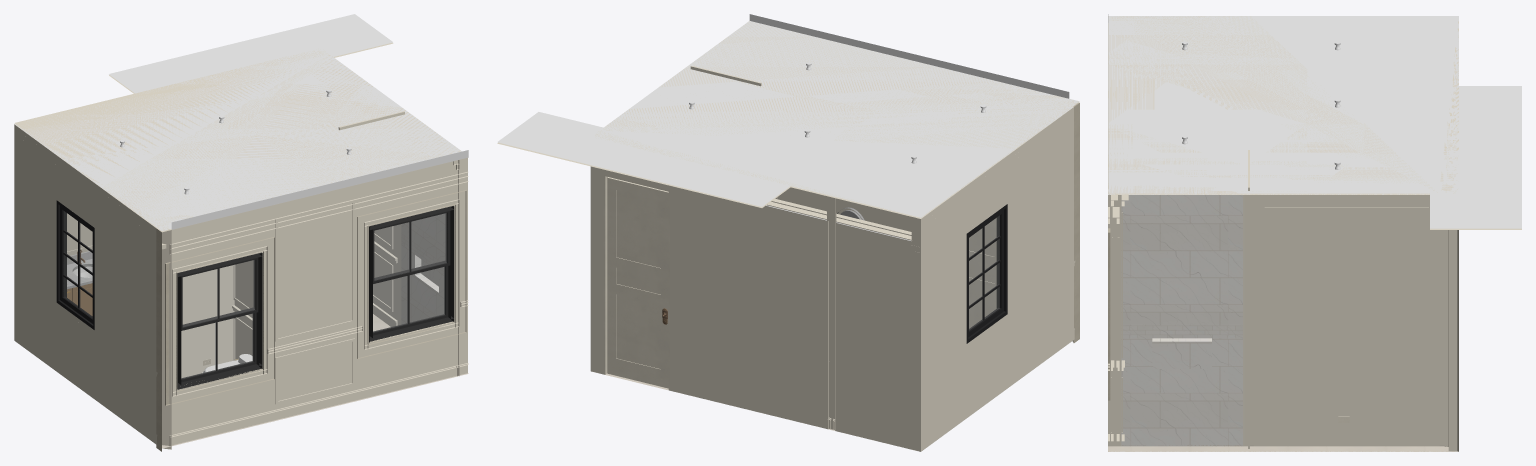
The model's file is primary-bath-cc031e4b3f61.glb.
The picture shows the model from 3 angles, left to right: view 1: azimuth 30°, elevation 25°; view 2: azimuth 150°, elevation 25°; view 3: azimuth 270°, elevation 25°; orthographic projection. The views are drawn at different scales.
Parts seen in each view (by area): view 1: primary-bath-9d91b47435c6fb33, primary-bath-b0ade14315e4f1c3, primary-bath-c51ecd664a3b22a3, primary-bath-e8793759323e04f0, primary-bath-60f0db96f832035a, primary-bath-b5cb73c07919def8, primary-bath-look-9d91b47435c6fb33, primary-bath-10eba734bfa580f9, primary-bath-20932135983111ad, primary-bath-ef64d5096d209f6d, primary-bath-b5339e4b2b15762b, primary-bath-62353aa10fc57f23 (+12 smaller); view 2: primary-bath-9ecc0d558be1c706, primary-bath-9d91b47435c6fb33, primary-bath-c51ecd664a3b22a3, primary-bath-e8793759323e04f0, primary-bath-18f70a4a9eda5dac, primary-bath-look-9d91b47435c6fb33, primary-bath-20932135983111ad, primary-bath-25ea03c5717987c5, primary-bath-e48b5483df8cacdb, primary-bath-b88ac105ef7c3bdb, primary-bath-62353aa10fc57f23, primary-bath-1a6c50e4c3accb7b (+2 smaller); view 3: primary-bath-9d91b47435c6fb33, primary-bath-fc6585fecfaf7ec3, primary-bath-e8793759323e04f0, primary-bath-3d8660a29b1e398e, primary-bath-2bc0761cc32b9613, primary-bath-look-9d91b47435c6fb33, primary-bath-c791a0f218fead78, primary-bath-9ecc0d558be1c706, primary-bath-343da8f45fc39332, primary-bath-b3921aced1f99593, primary-bath-b3dc771ed6f89851, primary-bath-38b306e83be12a4b (+8 smaller).
Boxes of the visible parts, left/top/right/bottom form: primary-bath-9d91b47435c6fb33: left=18, top=48, right=468, bottom=232; primary-bath-b0ade14315e4f1c3: left=171, top=157, right=467, bottom=434; primary-bath-c51ecd664a3b22a3: left=14, top=124, right=156, bottom=444; primary-bath-e8793759323e04f0: left=14, top=51, right=468, bottom=229; primary-bath-60f0db96f832035a: left=177, top=252, right=262, bottom=389; primary-bath-b5cb73c07919def8: left=369, top=206, right=454, bottom=342; primary-bath-look-9d91b47435c6fb33: left=109, top=14, right=393, bottom=93; primary-bath-10eba734bfa580f9: left=184, top=265, right=234, bottom=377; primary-bath-20932135983111ad: left=56, top=200, right=94, bottom=329; primary-bath-ef64d5096d209f6d: left=169, top=363, right=468, bottom=445; primary-bath-b5339e4b2b15762b: left=169, top=171, right=468, bottom=254; primary-bath-62353aa10fc57f23: left=156, top=228, right=171, bottom=451; primary-bath-9ecc0d558be1c706: left=590, top=166, right=919, bottom=451; primary-bath-9d91b47435c6fb33: left=591, top=21, right=1079, bottom=218; primary-bath-c51ecd664a3b22a3: left=911, top=107, right=1073, bottom=451; primary-bath-e8793759323e04f0: left=595, top=14, right=1077, bottom=210; primary-bath-18f70a4a9eda5dac: left=607, top=177, right=668, bottom=388; primary-bath-look-9d91b47435c6fb33: left=497, top=112, right=790, bottom=207; primary-bath-20932135983111ad: left=966, top=204, right=1007, bottom=343; primary-bath-25ea03c5717987c5: left=969, top=218, right=996, bottom=328; primary-bath-e48b5483df8cacdb: left=827, top=196, right=836, bottom=430; primary-bath-b88ac105ef7c3bdb: left=603, top=174, right=669, bottom=390; primary-bath-62353aa10fc57f23: left=1072, top=103, right=1079, bottom=342; primary-bath-1a6c50e4c3accb7b: left=777, top=187, right=879, bottom=224; primary-bath-9d91b47435c6fb33: left=1108, top=16, right=1458, bottom=194; primary-bath-fc6585fecfaf7ec3: left=1248, top=193, right=1458, bottom=451; primary-bath-e8793759323e04f0: left=1108, top=14, right=1458, bottom=193; primary-bath-3d8660a29b1e398e: left=1121, top=195, right=1242, bottom=324; primary-bath-2bc0761cc32b9613: left=1121, top=338, right=1242, bottom=446; primary-bath-look-9d91b47435c6fb33: left=1430, top=86, right=1521, bottom=229; primary-bath-c791a0f218fead78: left=1108, top=189, right=1247, bottom=451; primary-bath-9ecc0d558be1c706: left=1447, top=230, right=1458, bottom=451; primary-bath-343da8f45fc39332: left=1253, top=434, right=1439, bottom=446; primary-bath-b3921aced1f99593: left=1108, top=446, right=1457, bottom=451; primary-bath-b3dc771ed6f89851: left=1264, top=207, right=1428, bottom=352; primary-bath-38b306e83be12a4b: left=1121, top=324, right=1242, bottom=338.
Bounding box in the file's own units: 5.14 × 3.04 × 4.23.
37 materials, 8 textured.
